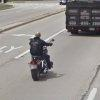Motorcycle: (22, 31, 58, 81)
